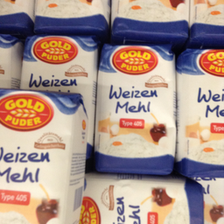flour: (1, 88, 91, 224), (95, 44, 177, 175), (176, 44, 224, 178), (80, 174, 205, 224)
